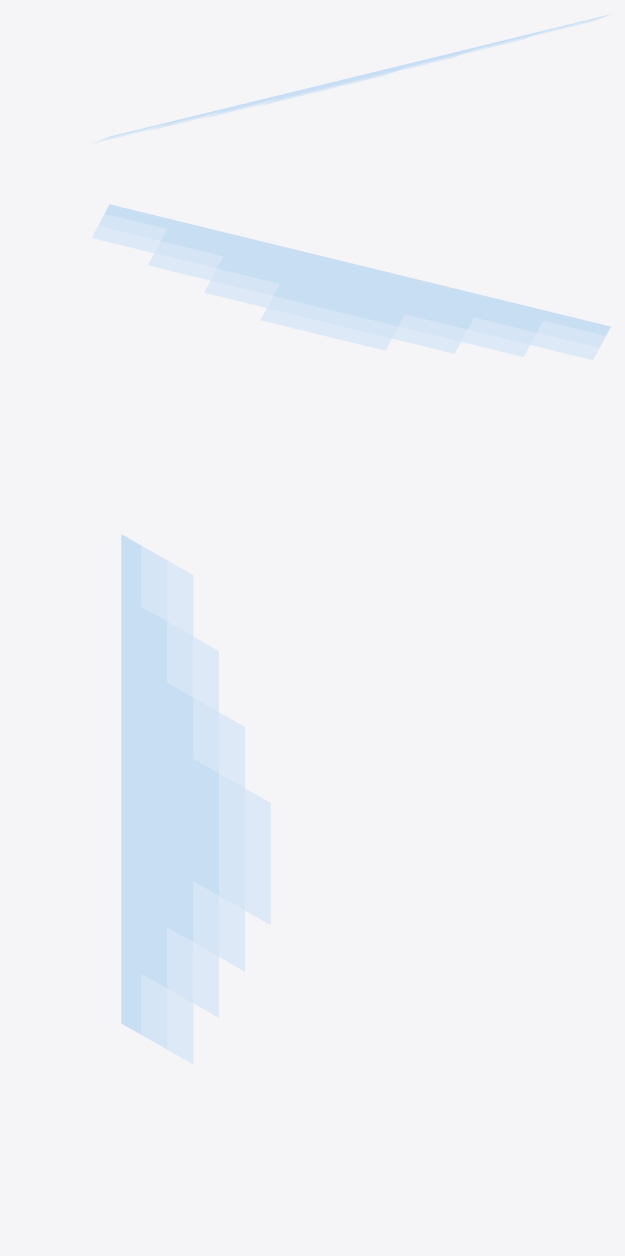
3 renders of one model, top to bottom at view 1: azimuth 30°, elevation 25°; view 2: azimuth 150°, elevation 25°; view 3: azimuth 270°, elevation 25°, orthographic. The views are drawn at different scales.
Bounding box in the file's own units: 1 × 0.2081 × 0.3301.
1 material, 1 textured.
